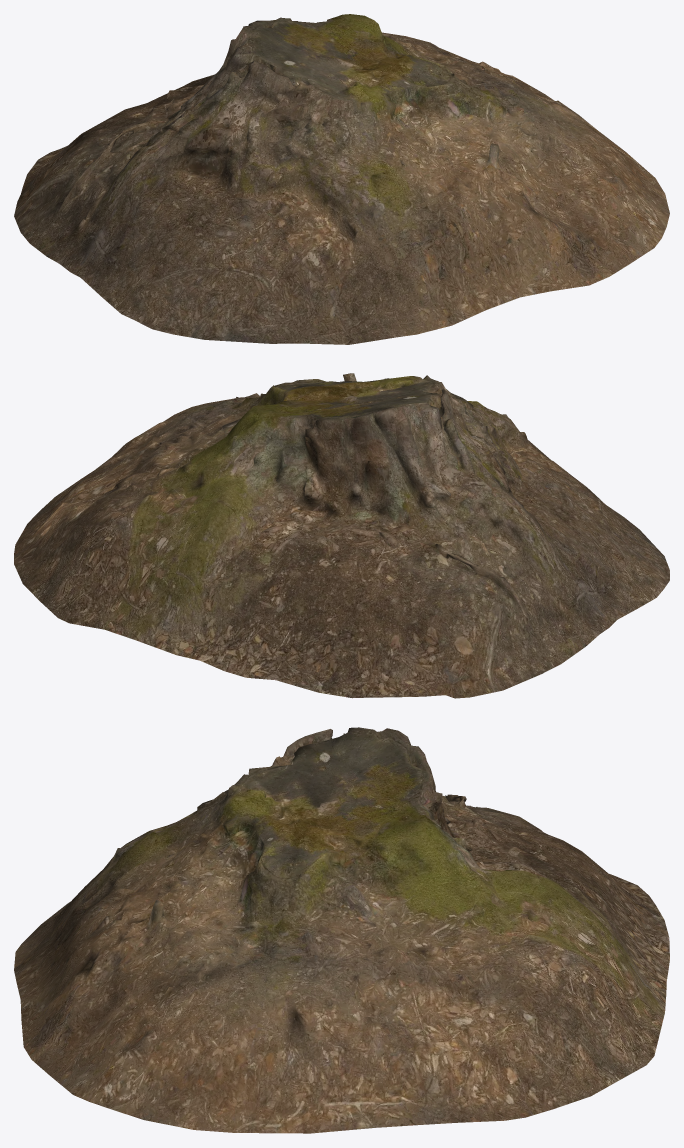
File: ph-tree_stump_02.glb
The picture shows the model from 3 angles, top to bottom: view 1: azimuth 30°, elevation 25°; view 2: azimuth 150°, elevation 25°; view 3: azimuth 270°, elevation 25°; orthographic projection. The views are drawn at different scales.
Parts seen in each view (by area): view 1: tree_stump_02; view 2: tree_stump_02; view 3: tree_stump_02.
Boxes of the visible parts, x1=… form: tree_stump_02: x1=14, y1=14, x2=669, y2=344; tree_stump_02: x1=14, y1=373, x2=669, y2=698; tree_stump_02: x1=14, y1=727, x2=669, y2=1133.
Size of the model in its own units: 1.52 by 0.5203 by 1.39.
1 material, 1 textured.
